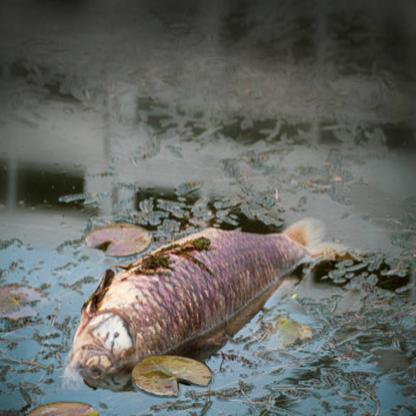deceased fish: (65, 219, 353, 375)
